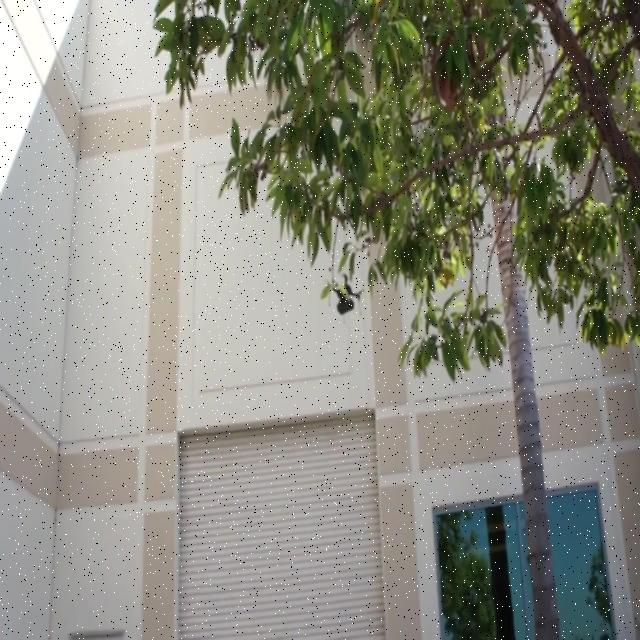UAV: (328, 274, 364, 316)
